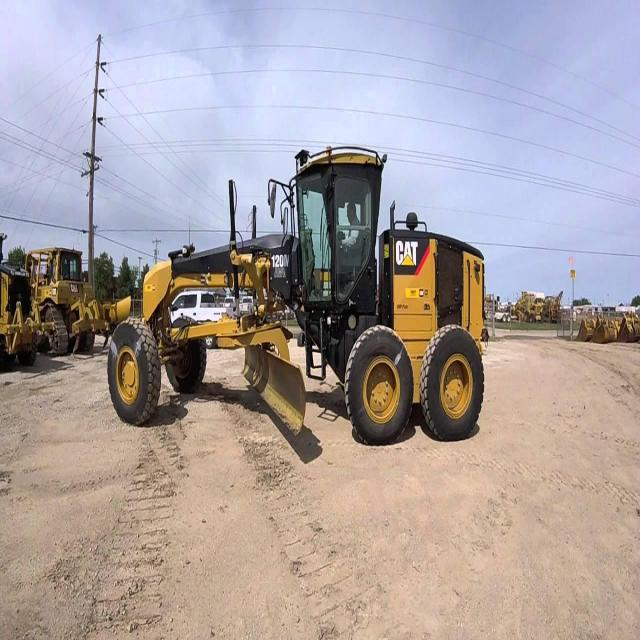Grader: (92, 133, 498, 455)
